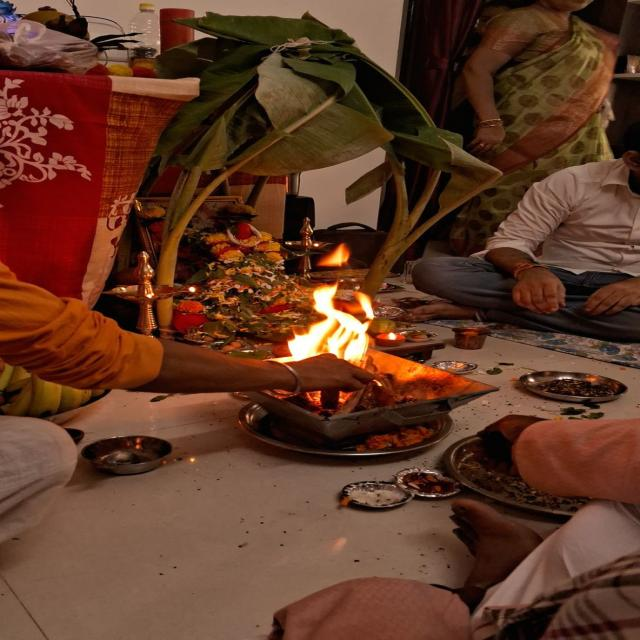fire: (285, 282, 376, 362)
